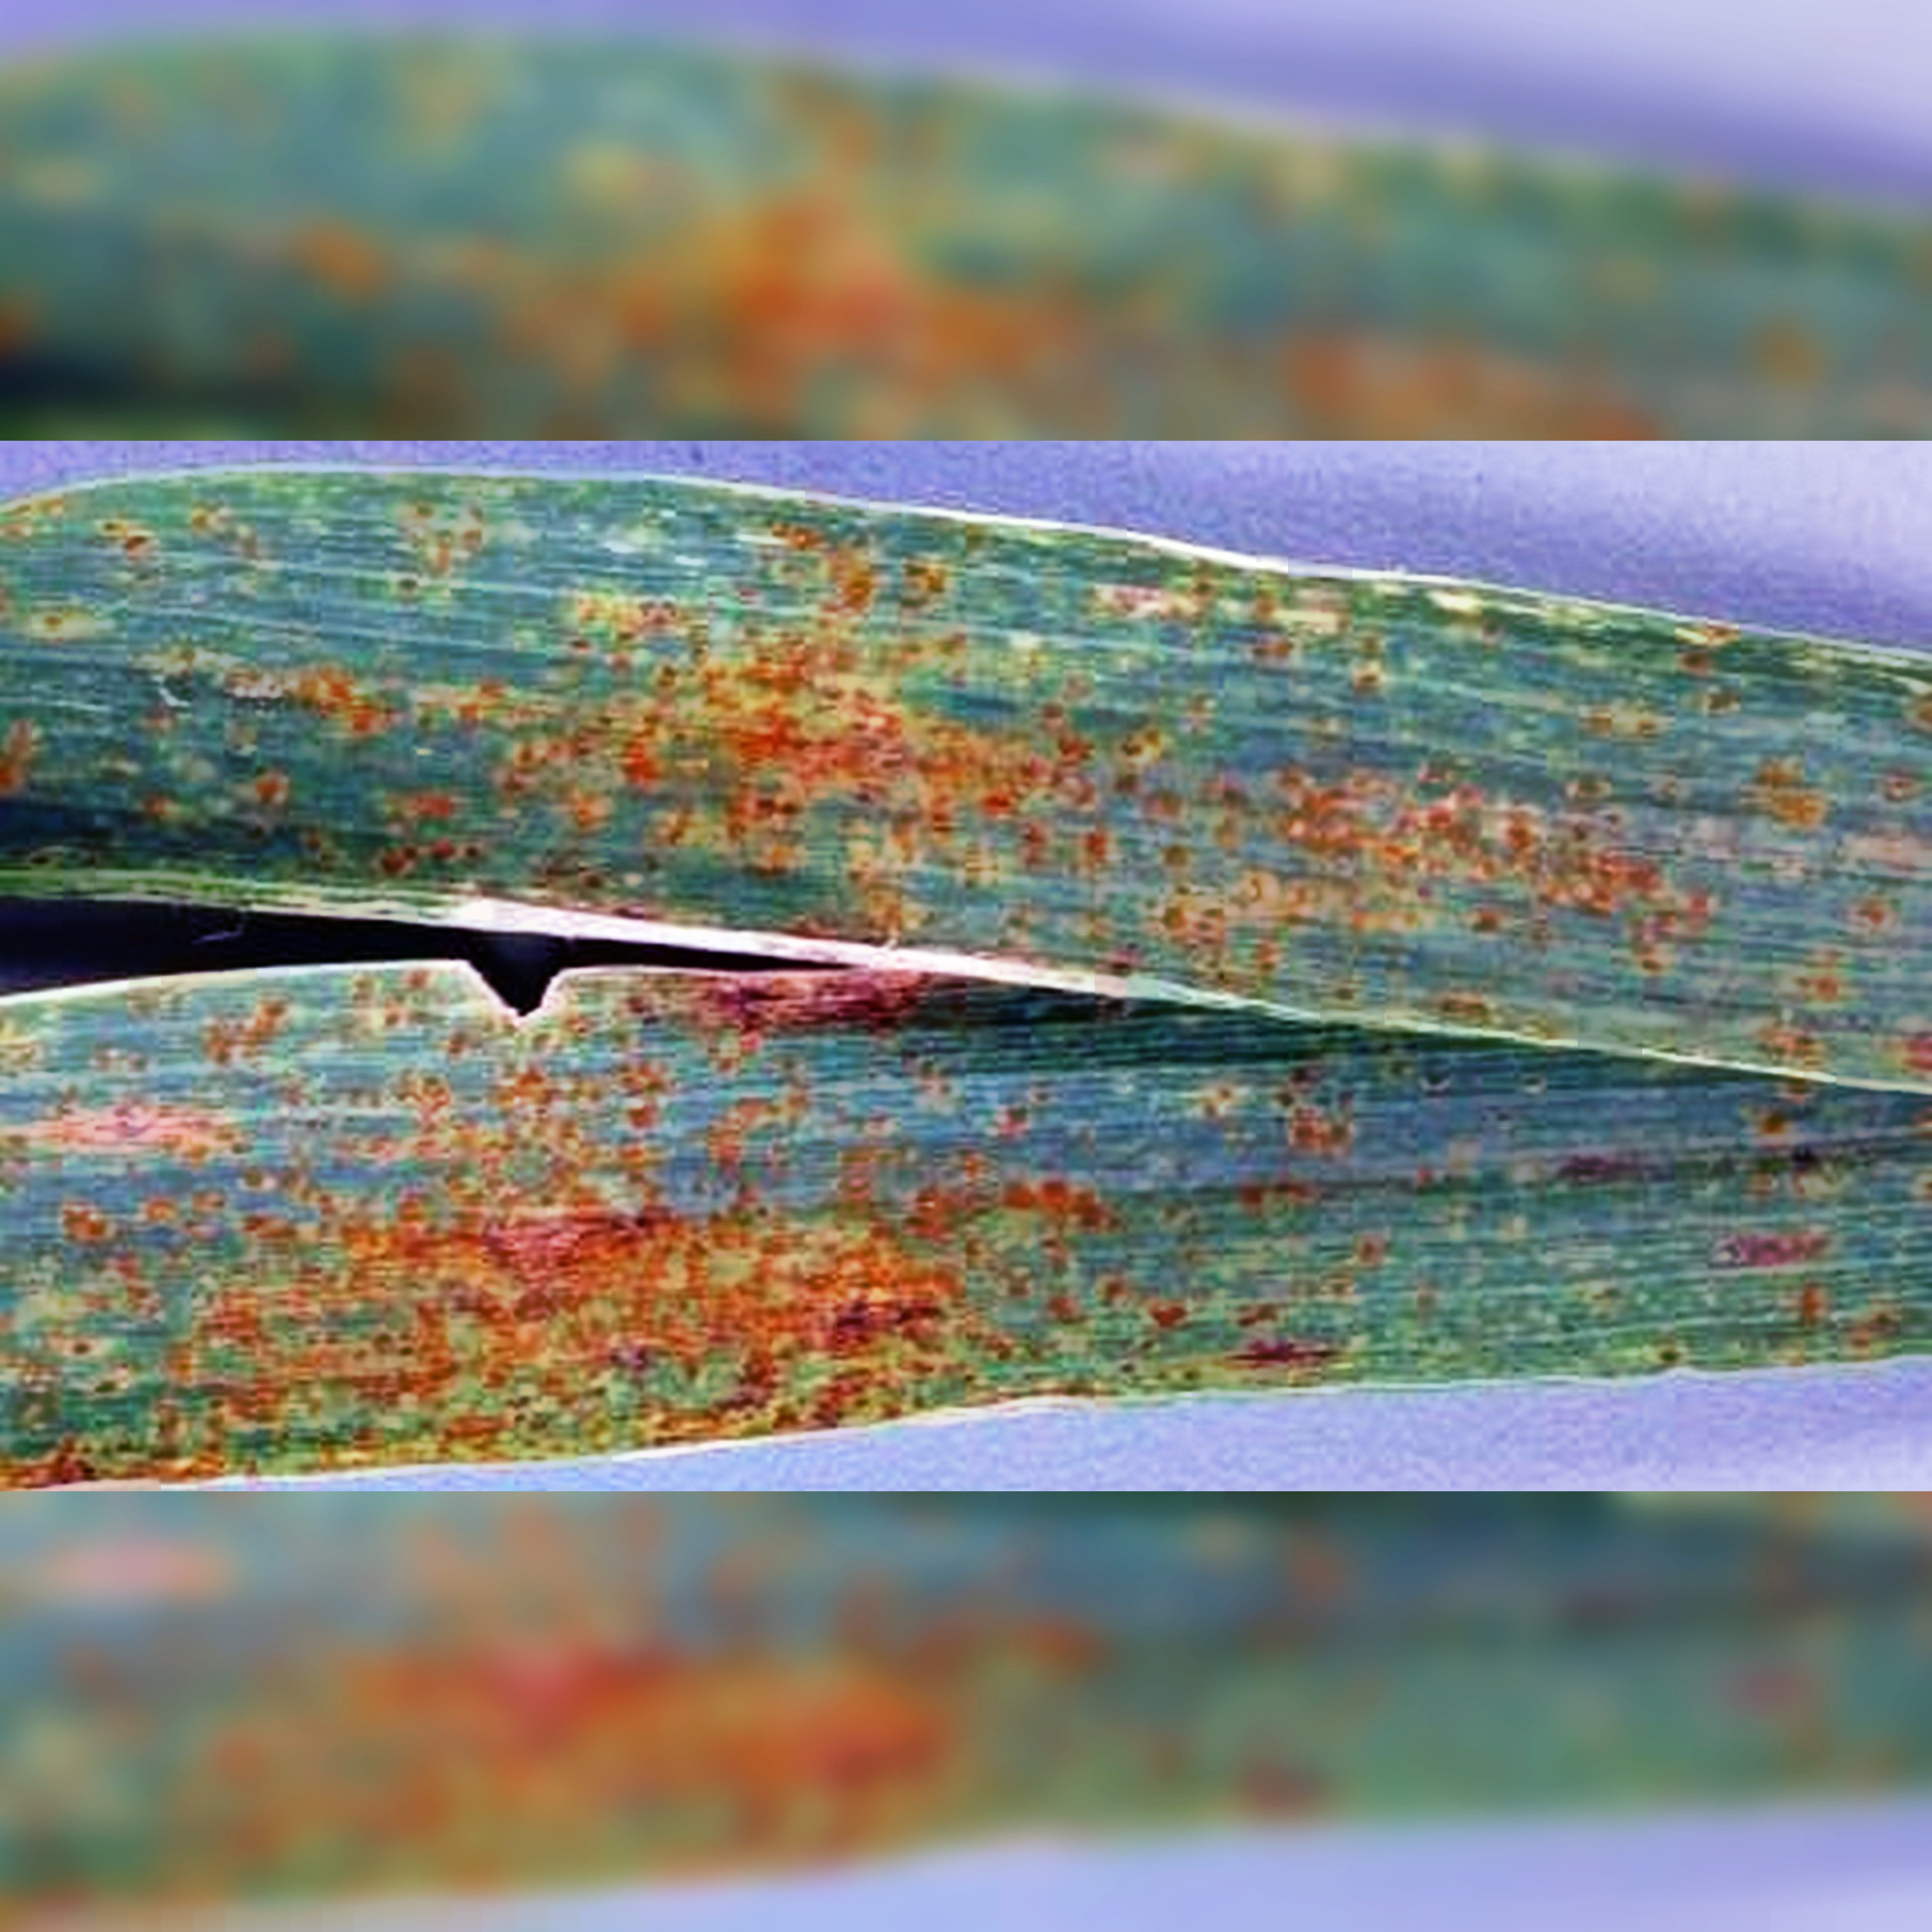Leaf Rust: (87, 950, 1559, 1477), (458, 524, 1891, 971)
